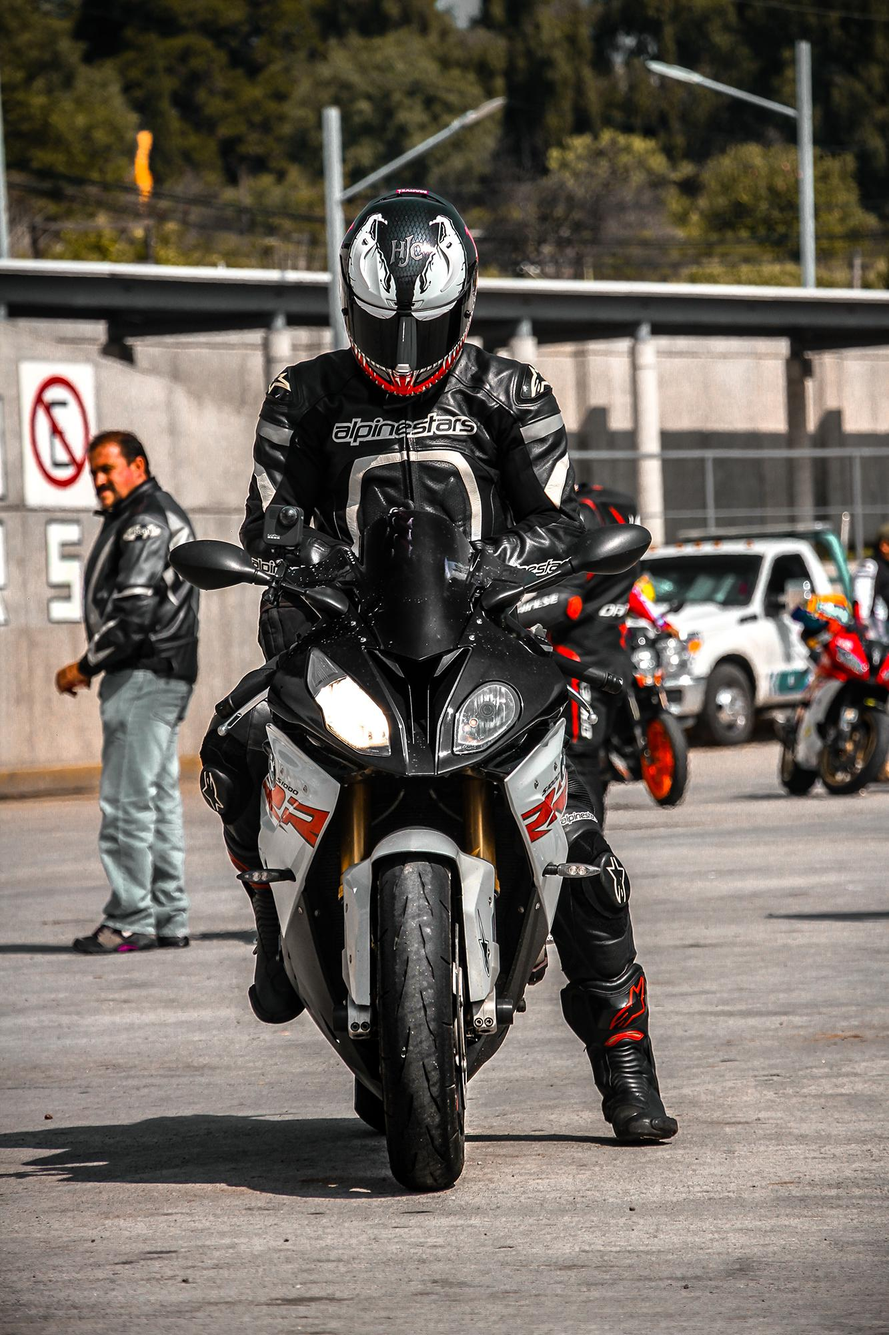helmet: (338, 187, 480, 399)
